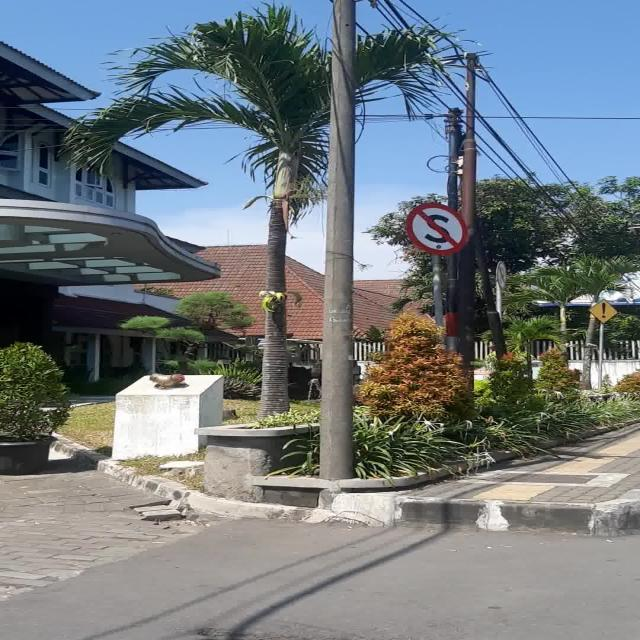Dilarang Berhenti: (407, 204, 468, 254)
